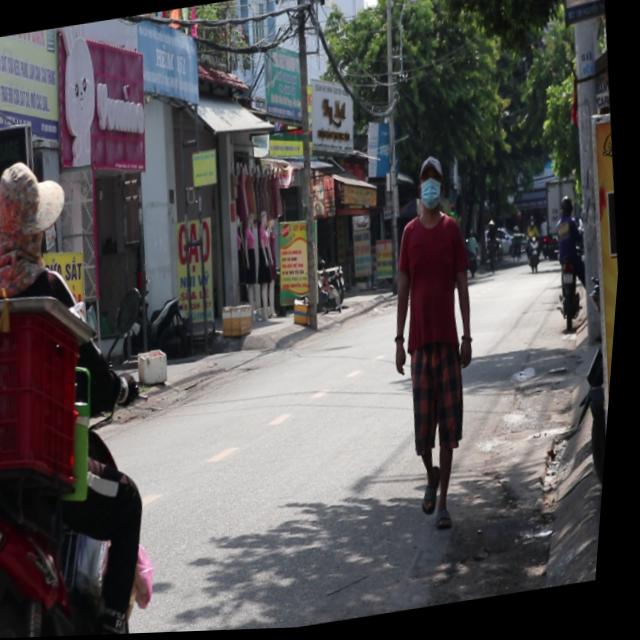licenseplate: (0, 137, 196, 640)
motorcyclist: (0, 154, 78, 293)
nohelmet: (0, 586, 13, 639)
